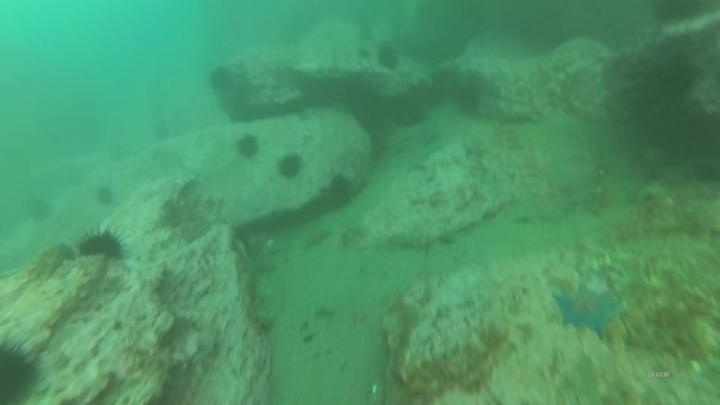echinus: (0, 333, 43, 405), (75, 227, 127, 263), (648, 1, 714, 28), (451, 79, 486, 117), (324, 172, 358, 211), (23, 194, 56, 226), (205, 64, 237, 96), (274, 151, 305, 182), (233, 132, 262, 163), (375, 44, 402, 73), (93, 183, 118, 209)
holothurian: (239, 241, 280, 333)
starfish: (550, 284, 626, 341), (299, 224, 333, 253)
